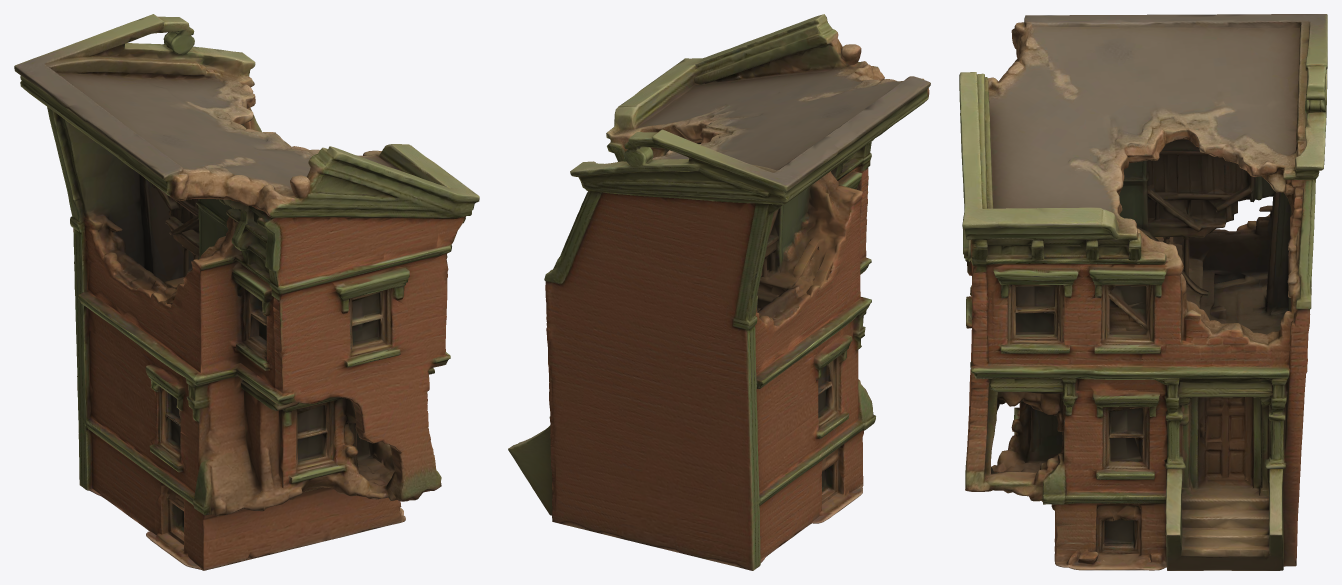
The model's file is buildingdmg3d2.glb.
The picture shows the model from 3 angles, left to right: view 1: azimuth 30°, elevation 25°; view 2: azimuth 150°, elevation 25°; view 3: azimuth 270°, elevation 25°; orthographic projection. The views are drawn at different scales.
Parts seen in each view (by area): view 1: tripo_node_e1aaa8ab-78d2-413a-abc9-214991dff12a; view 2: tripo_node_e1aaa8ab-78d2-413a-abc9-214991dff12a; view 3: tripo_node_e1aaa8ab-78d2-413a-abc9-214991dff12a.
Boxes of the visible parts, x1,y1,x2,y2 form: tripo_node_e1aaa8ab-78d2-413a-abc9-214991dff12a: [14, 14, 479, 570]; tripo_node_e1aaa8ab-78d2-413a-abc9-214991dff12a: [508, 14, 930, 570]; tripo_node_e1aaa8ab-78d2-413a-abc9-214991dff12a: [959, 14, 1327, 570].
Size of the model in its own units: 0.7417 by 1 by 0.7526.
Materials: 1 (1 with a texture image).
